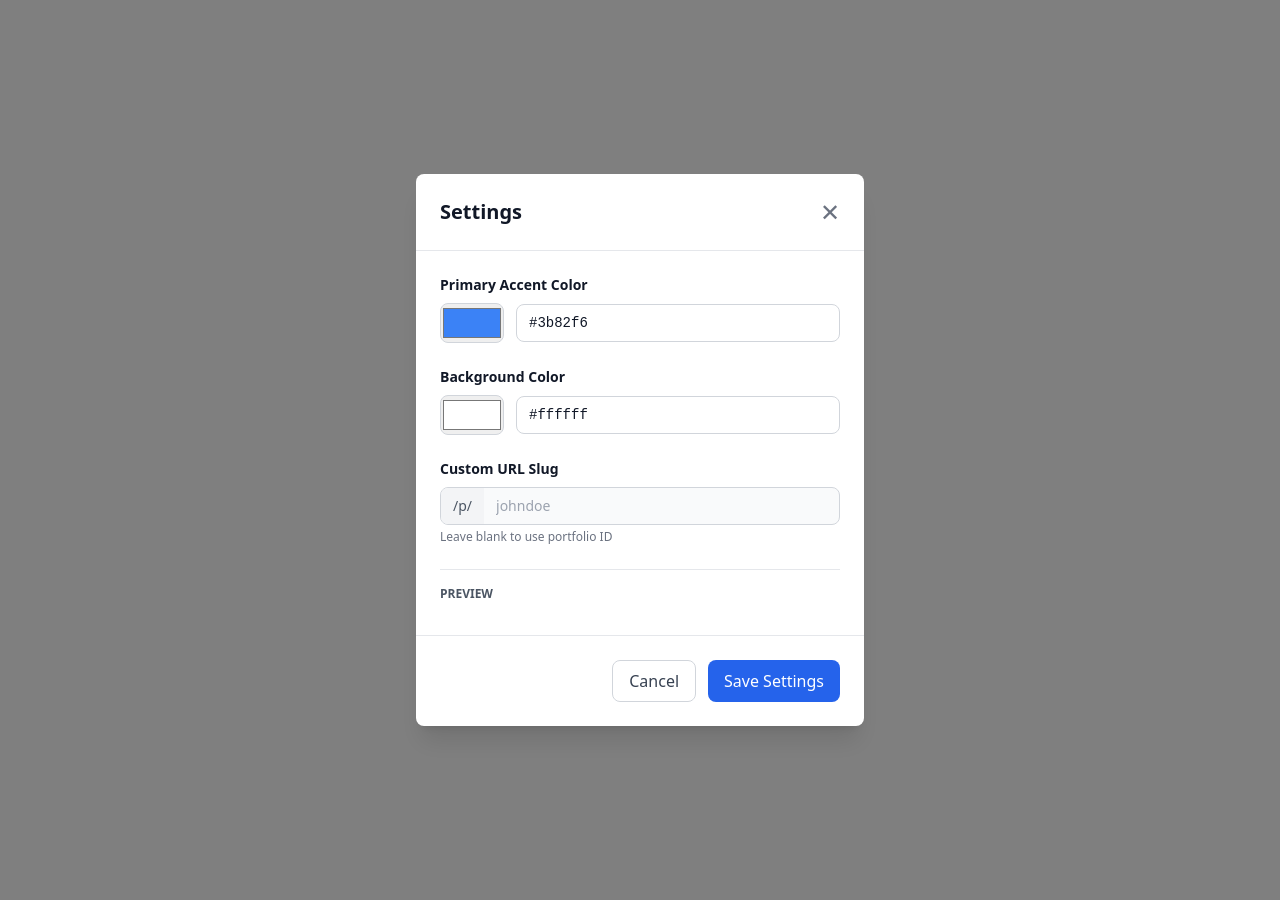
Test: SettingsPanel - Slug Validation › shows Already taken when slug is taken
The width and height of the screenshot is (1280, 900).
Type "taken-slug" into the field with placeholder "johndoe". click: (662, 506)
box: top-left (484, 488), bottom-right (839, 524)
Wait 400 ms
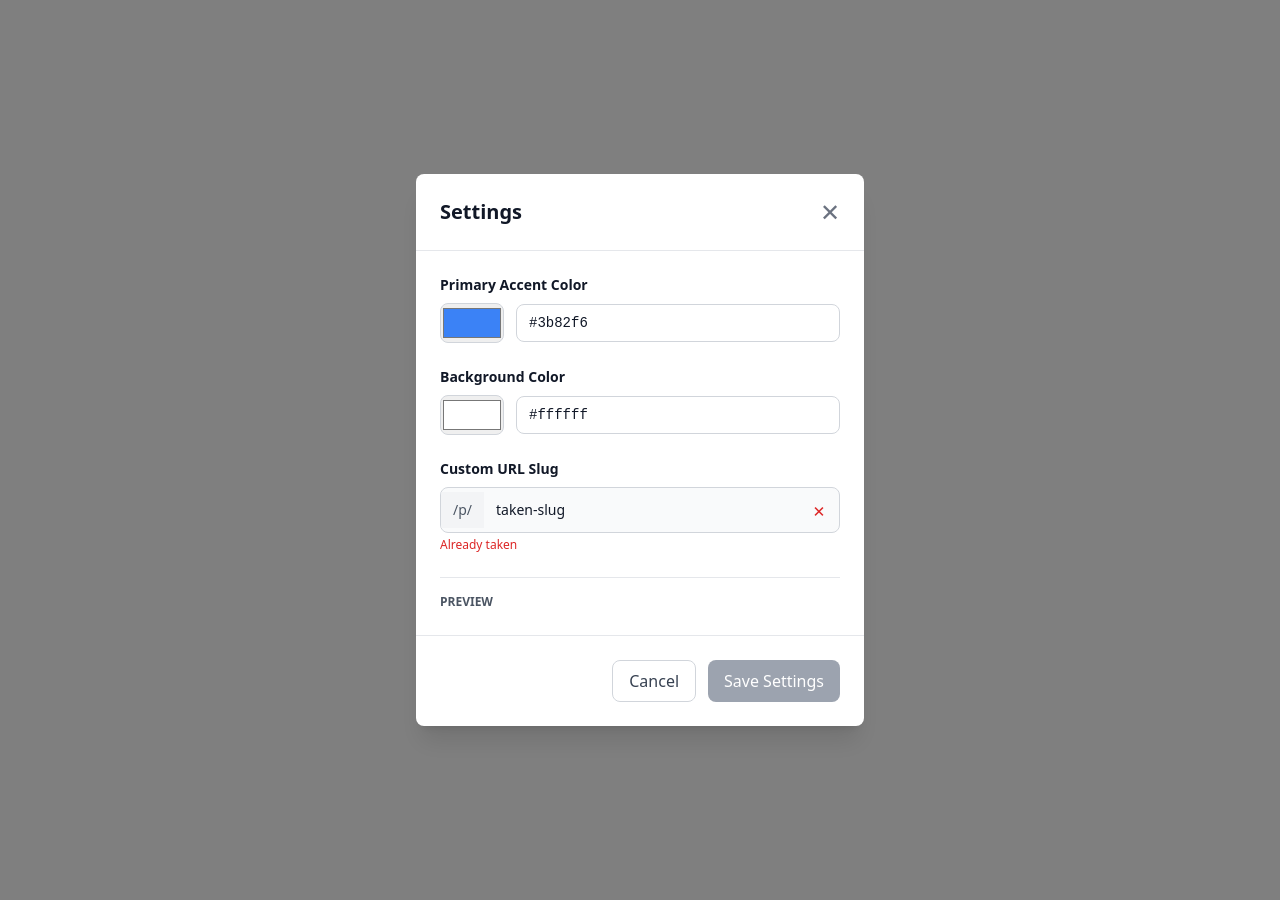
Expected: the text "Already taken" is shown, top-left (440, 536), bottom-right (517, 553)
Expected: the text "✗" is shown, top-left (811, 498), bottom-right (827, 522)
